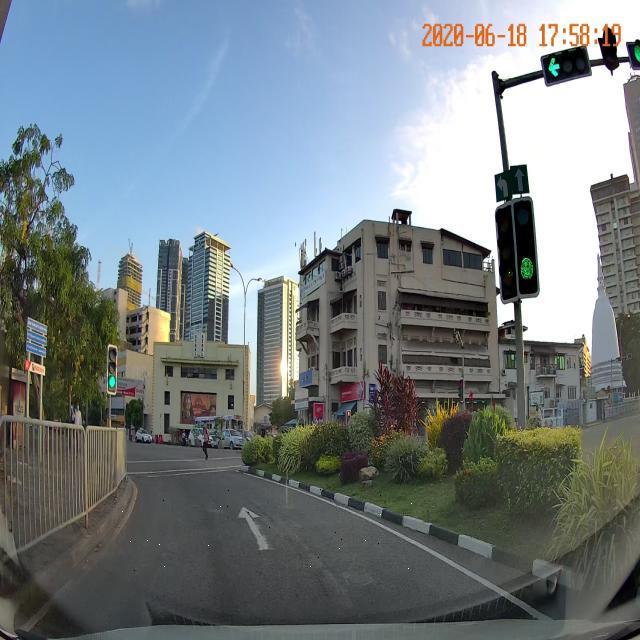forward: (117, 481, 413, 573)
